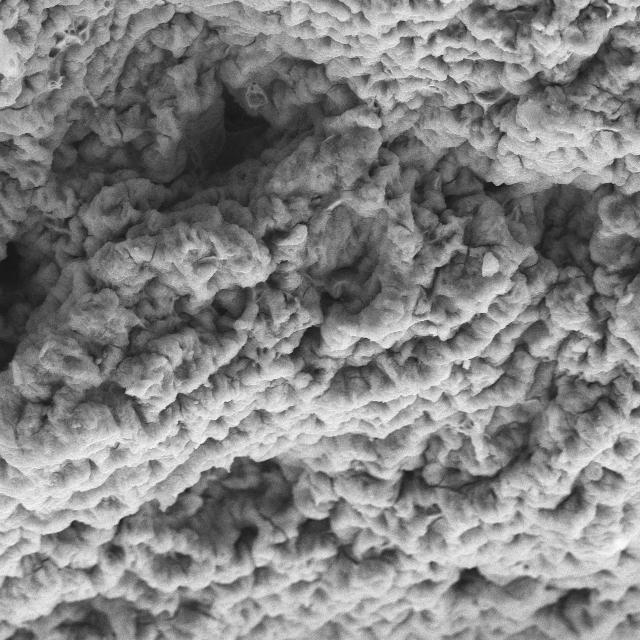c1: (0, 0, 640, 639)
